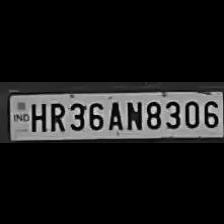0: (182, 97, 200, 127)
3: (66, 98, 86, 130), (164, 97, 181, 129)
6: (200, 96, 220, 128), (86, 98, 104, 130)
8: (143, 97, 161, 129)
A: (106, 97, 124, 130)
H: (27, 99, 45, 131)
N: (124, 97, 142, 130)
R: (47, 98, 65, 132)
